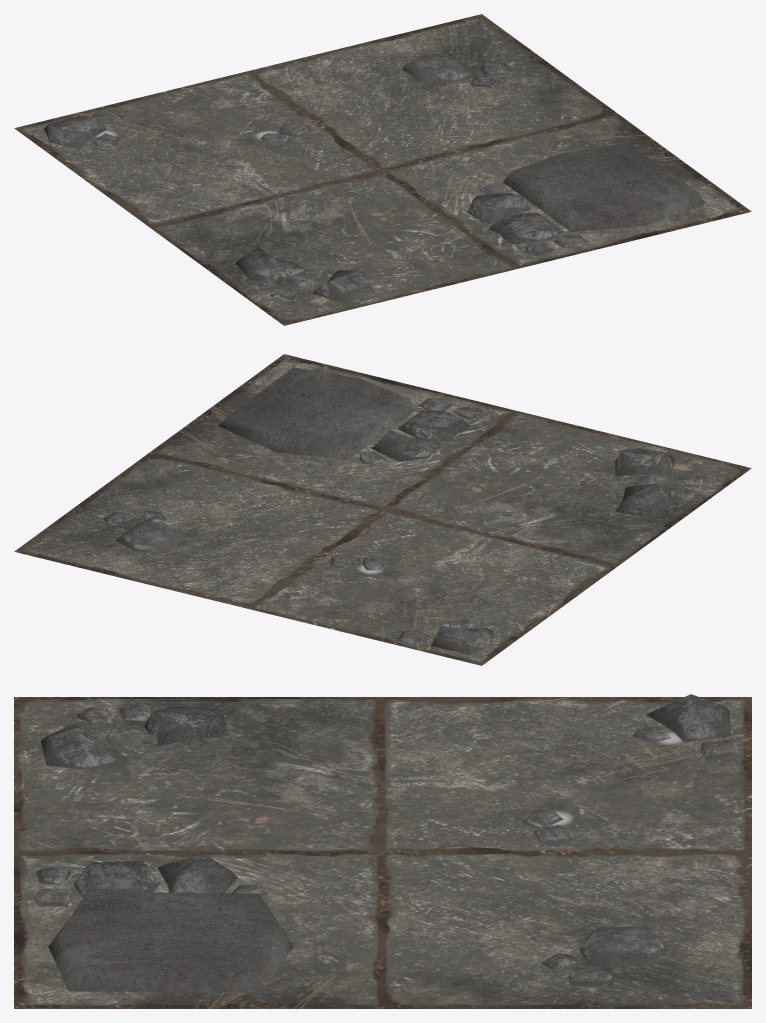
File: Floor2.fbx
The picture shows the model from 3 angles, top to bottom: view 1: azimuth 30°, elevation 25°; view 2: azimuth 150°, elevation 25°; view 3: azimuth 270°, elevation 25°; orthographic projection. The views are drawn at different scales.
Visible parts, largest first — view 1: Floor2; view 2: Floor2; view 3: Floor2.
Boxes of the visible parts, <box> form: Floor2: <box>14,14,751,325</box>; Floor2: <box>14,354,751,665</box>; Floor2: <box>14,694,751,1008</box>.
Bounding box in the file's own units: 3 × 0.0704 × 3.
Materials: 1 (1 with a texture image).
